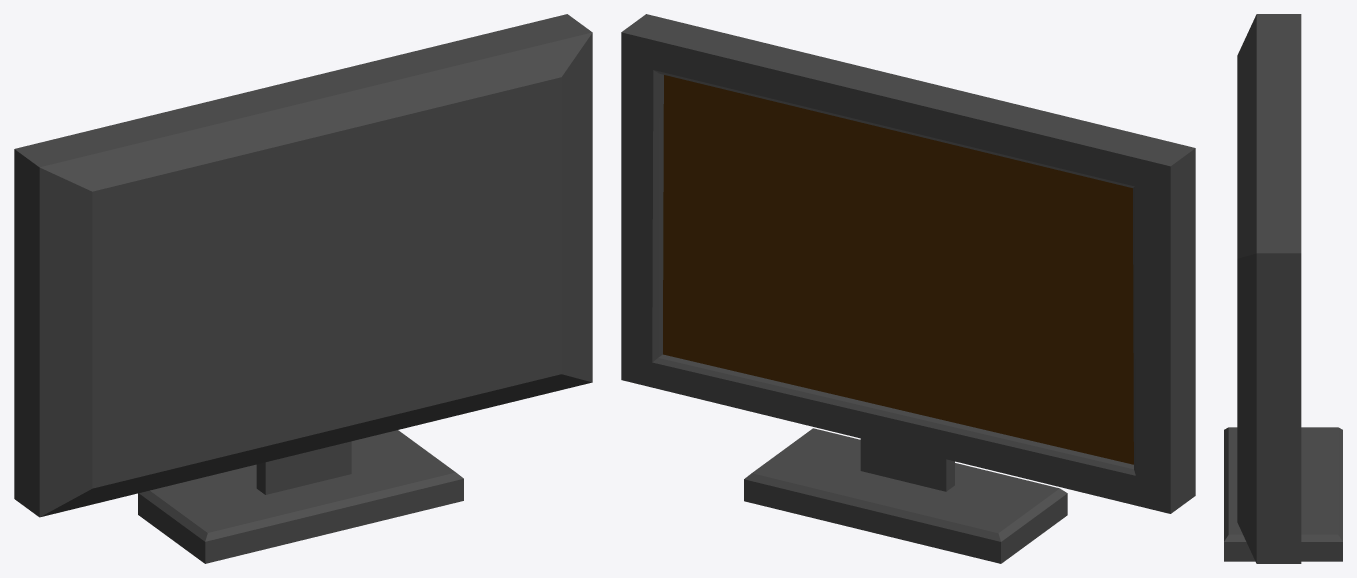
File: interactible_tv_off.fbx
3 renders of one model, left to right at view 1: azimuth 30°, elevation 25°; view 2: azimuth 150°, elevation 25°; view 3: azimuth 270°, elevation 25°, orthographic. The views are drawn at different scales.
Parts seen in each view (by area): view 1: interactible_tv_off; view 2: interactible_tv_off; view 3: interactible_tv_off.
Part boxes in pixels (<box>): interactible_tv_off: <box>14,14,592,563</box>; interactible_tv_off: <box>621,14,1195,563</box>; interactible_tv_off: <box>1224,14,1342,563</box>.
Size of the model in its own units: 1.47 by 1.06 by 0.3084.
